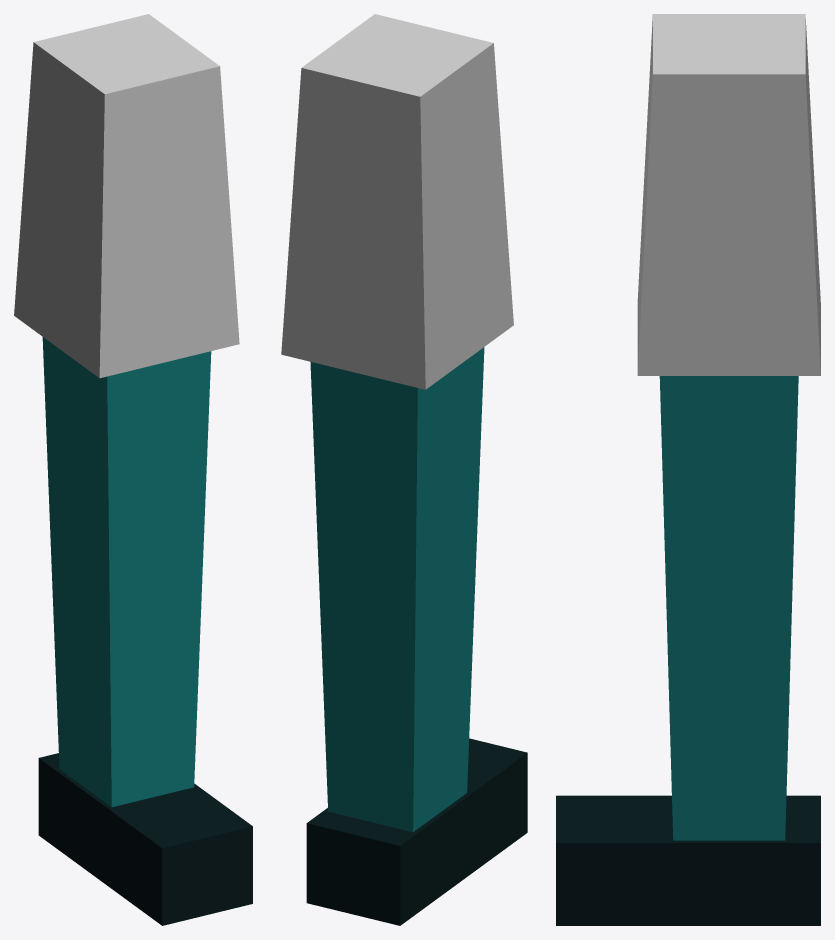
The model's file is leg_k22.glb.
The picture shows the model from 3 angles, left to right: view 1: azimuth 30°, elevation 25°; view 2: azimuth 150°, elevation 25°; view 3: azimuth 270°, elevation 25°; orthographic projection. The views are drawn at different scales.
Parts seen in each view (by area): view 1: leg_kit; view 2: leg_kit; view 3: leg_kit.
Boxes of the visible parts, box(x1,y1,x2,y2) form: leg_kit: box(14, 14, 252, 925); leg_kit: box(281, 14, 527, 925); leg_kit: box(556, 14, 820, 925).
Size of the model in its own units: 0.17 by 0.93 by 0.26.
